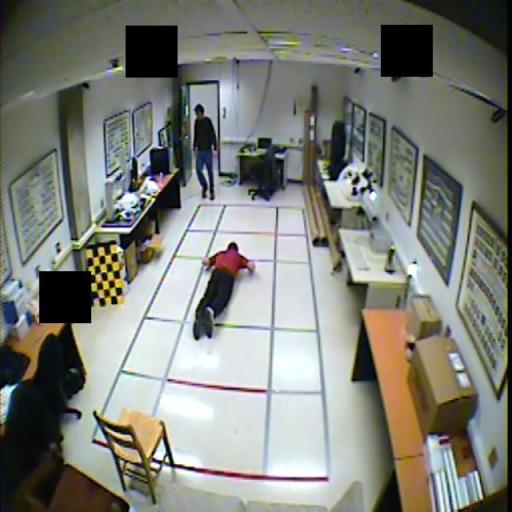Fall: (192, 241, 255, 342)
